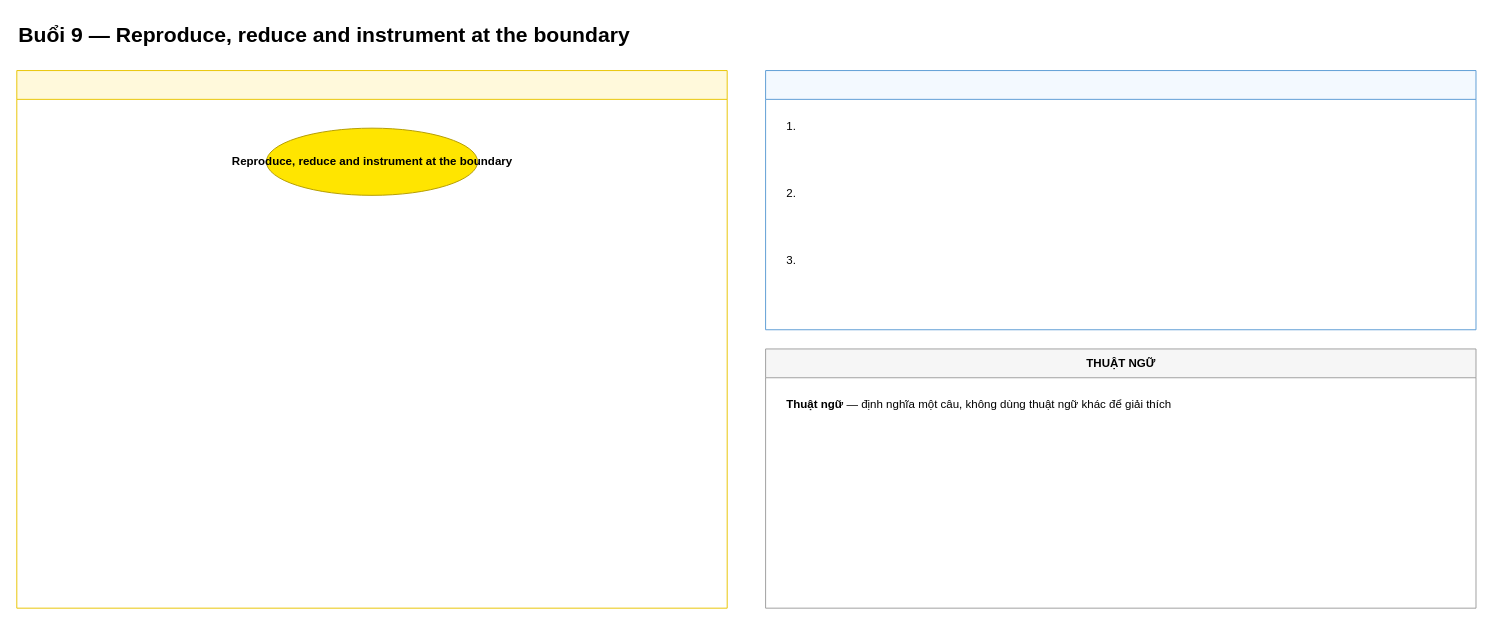
The diagram is 1493 pixels wide and 625 high, and some of its shapes have lost their labels. The box of each missing label's shape, as (x1, y1, x2, y2) in pixels:
KEY TAKEAWAY — ba điều phải nhớ: (765, 70, 1476, 330)
MINDMAP: (16, 70, 727, 608)
